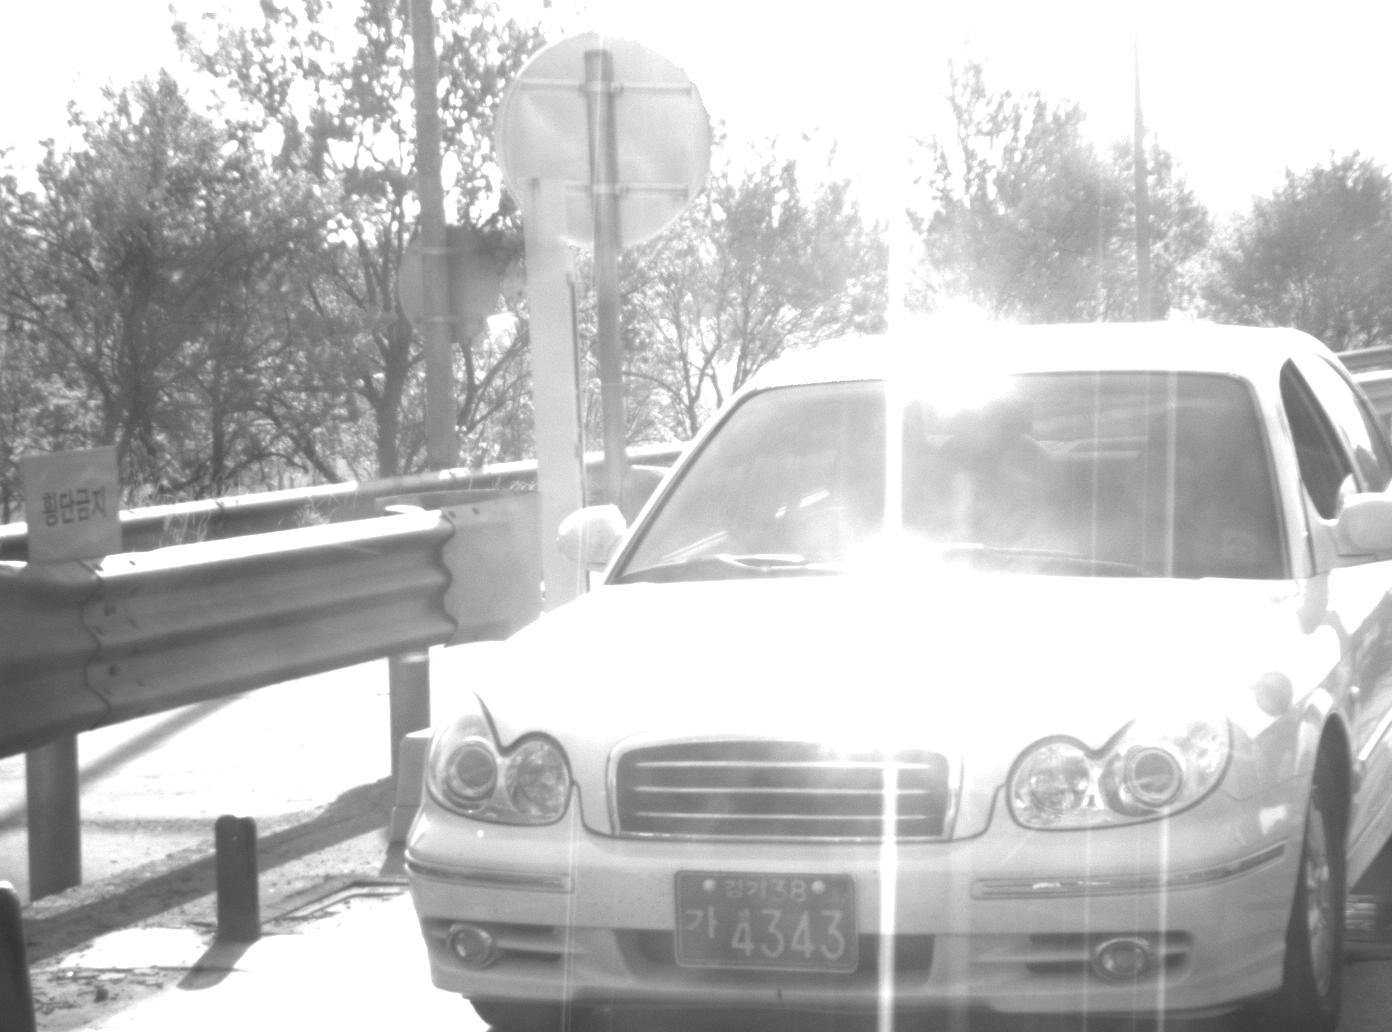car: (397, 317, 1392, 1032)
plate: (671, 868, 863, 974)
